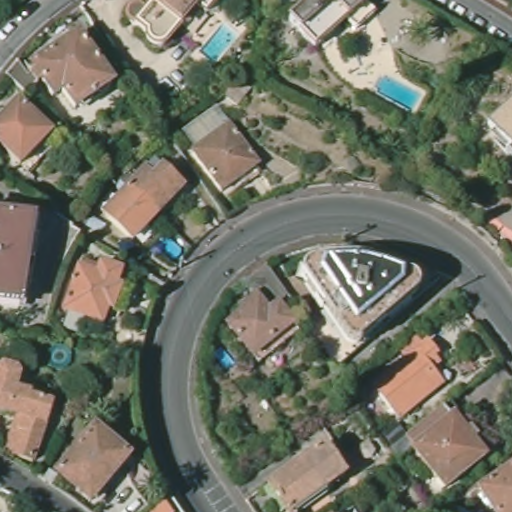pool: (372, 73, 427, 111), (201, 25, 241, 64), (212, 346, 240, 372), (160, 233, 186, 259)
